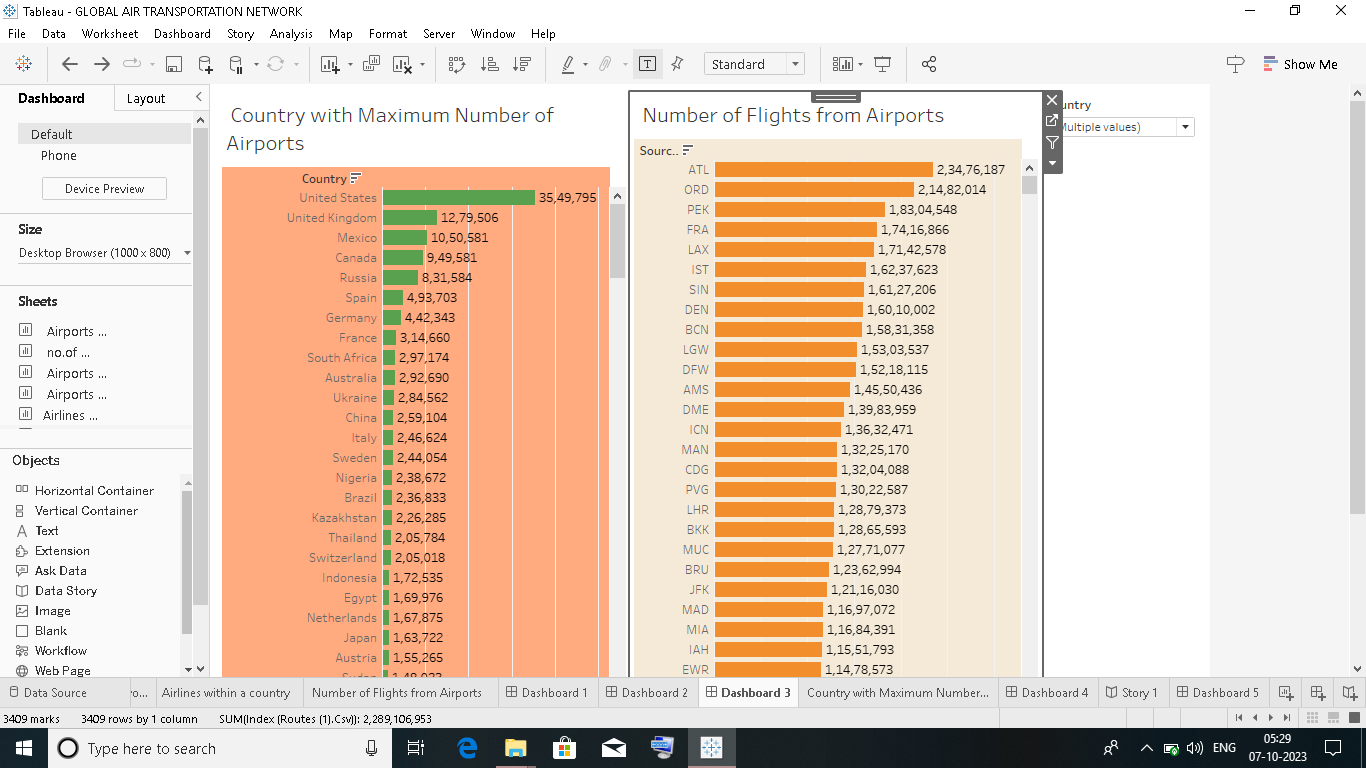

This screenshot's page, from the dashboard's own definition file:
{"tool":"tableau","page":{"name":"Dashboard 3","canvas":[1000,800],"ordinal":2},"visuals":[{"type":"worksheet","title":" Country with Maximum Number of Airports","mark":"Automatic","rows":["Country"],"cols":["index (routes (1).csv)"],"box":[8,8,412,784]},{"type":"worksheet","title":" Number of Flights from Airports","mark":"Automatic","rows":["Source airport"],"cols":["index (routes (1).csv)"],"box":[420,8,412,784]},{"type":"filter","title":" Country with Maximum Number of Airports","param":"[federated.10ei6qe0yz0oh80zsnboy1ecpc5a].[none:Country:nk]","box":[832,8,160,52]}]}

Visuals, with their boxes on the page's 1000x800 design canvas (x1, y1, x2, y2). These are canvas units, not pixel positions in the 1366x768 screenshot, which may show the page scaled, cropped or inside an application window:
" Country with Maximum Number of Airports" worksheet: 8:8:420:792
" Number of Flights from Airports" worksheet: 420:8:832:792
" Country with Maximum Number of Airports" filter: 832:8:992:60
